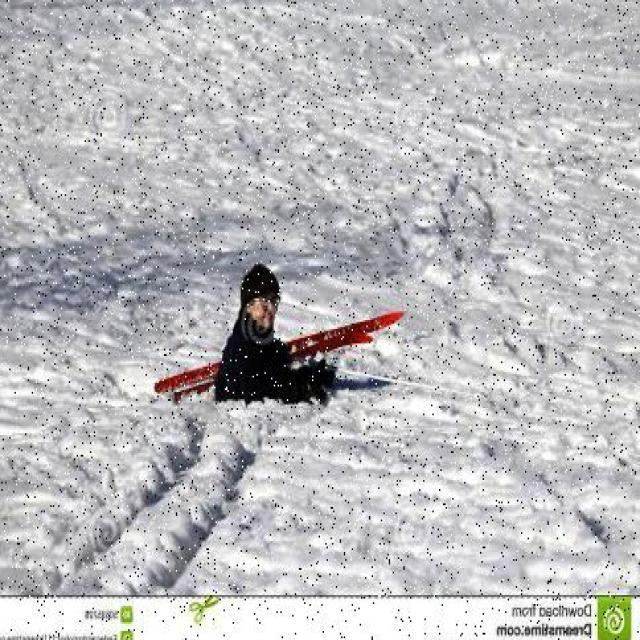fall: (218, 266, 346, 412)
